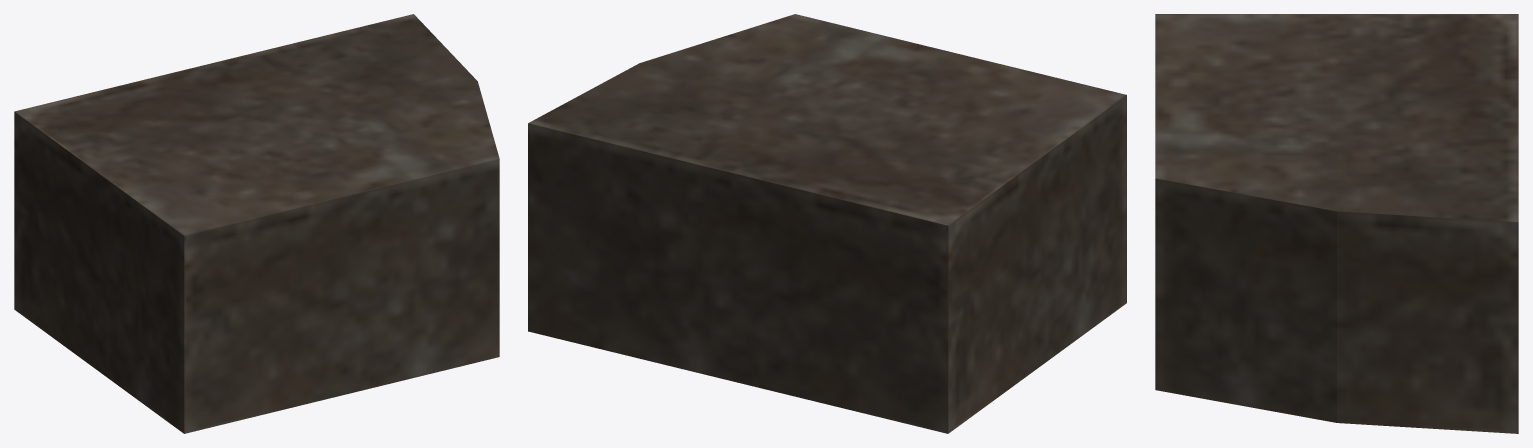
The model's file is brick_mx_3_1.obj.
3 views of the same model, side by side, from view 1: azimuth 30°, elevation 25°; view 2: azimuth 150°, elevation 25°; view 3: azimuth 270°, elevation 25° (orthographic). The views are drawn at different scales.
Visible parts, largest first — view 1: brick_mx_3_1; view 2: brick_mx_3_1; view 3: brick_mx_3_1.
Boxes of the visible parts, x1,y1,x2,y2 form: brick_mx_3_1: (14,14,499,433); brick_mx_3_1: (528,14,1126,433); brick_mx_3_1: (1155,14,1518,433).
Size of the model in its own units: 0.19 by 0.09 by 0.14.
